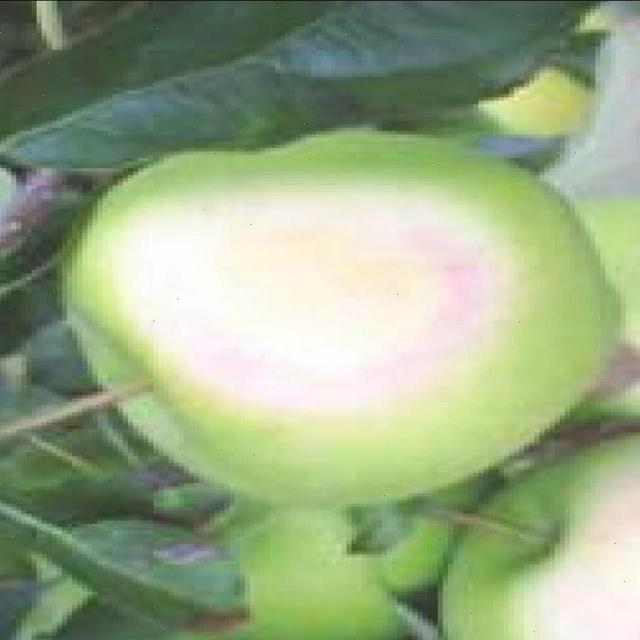Sunscald Fruit: (58, 118, 343, 287)
